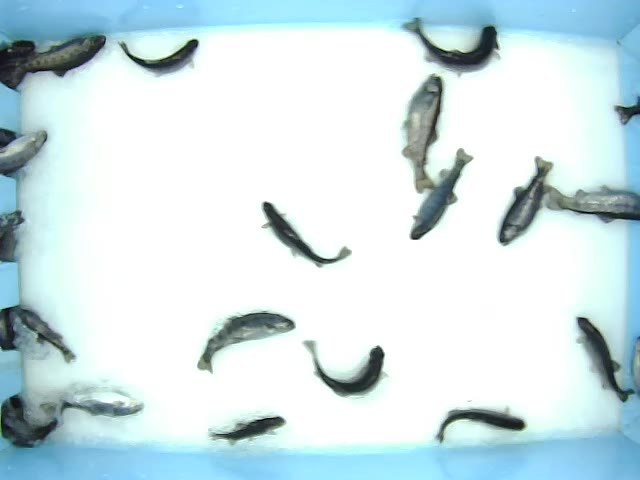fish: (194, 308, 297, 374), (397, 15, 502, 78), (408, 148, 475, 243), (261, 201, 353, 269), (398, 71, 445, 194), (299, 337, 390, 399), (574, 314, 635, 403), (495, 155, 554, 247), (36, 385, 145, 427), (13, 305, 78, 365), (432, 403, 527, 444), (117, 36, 199, 77), (206, 413, 286, 447)
